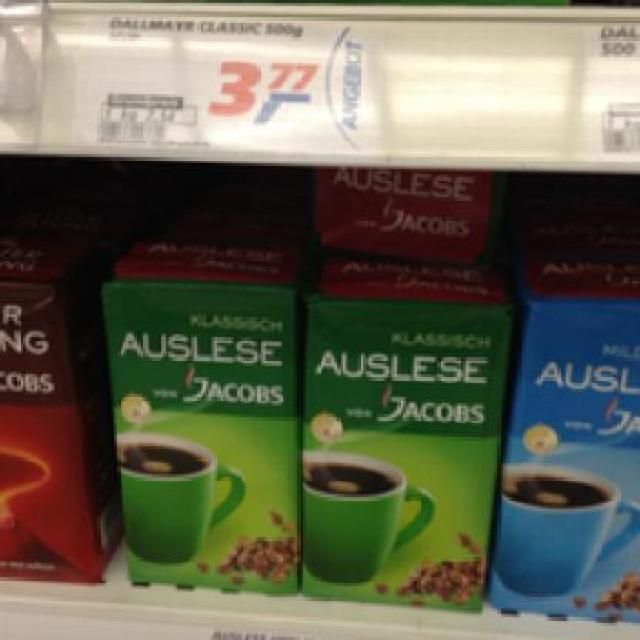Coffee: (294, 254, 510, 612), (97, 237, 297, 597), (486, 242, 634, 618)
